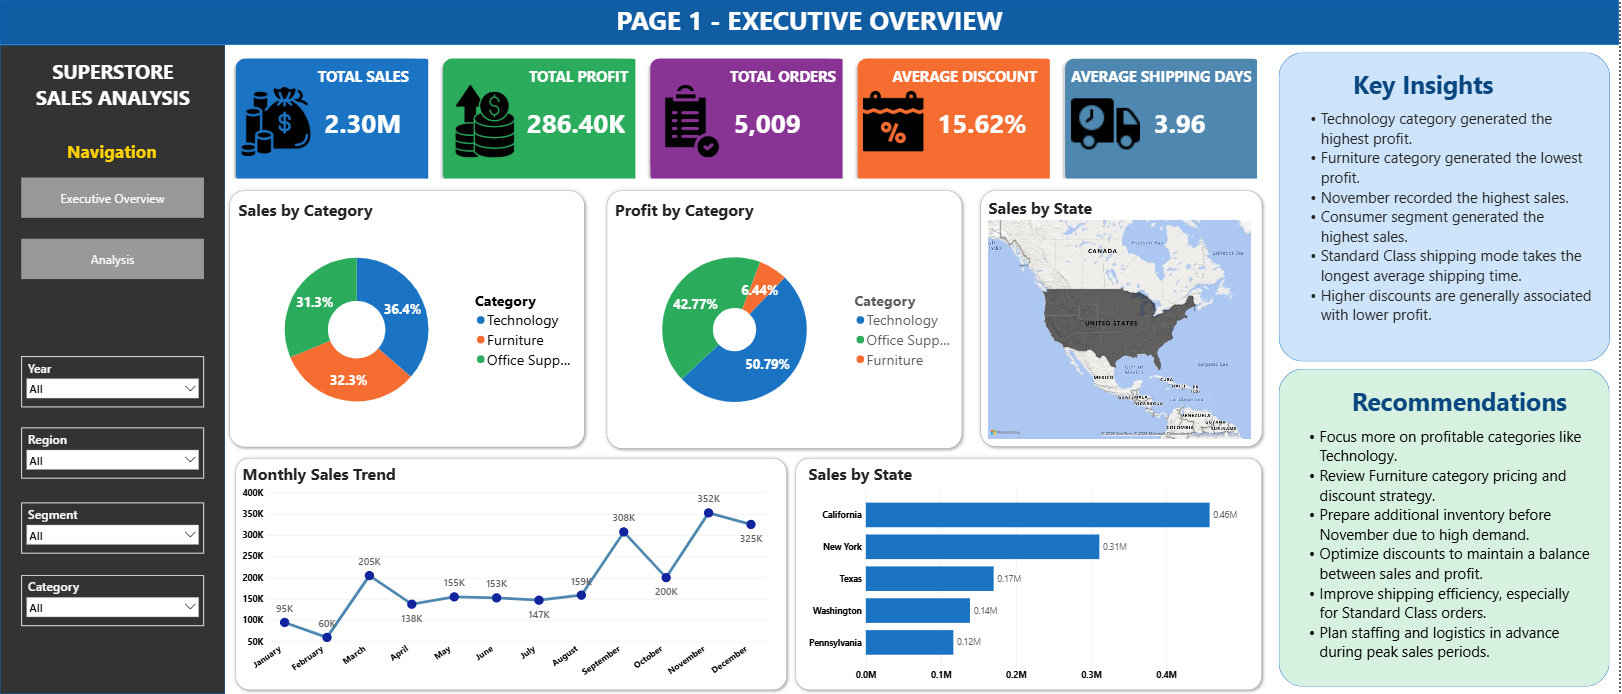

What the dashboard file says about the page in this screenshot:
{"tool":"powerbi","page":{"name":"EXECUTIVE OVERVIEW","canvas":[3500,1500],"ordinal":0},"visuals":[{"type":"shape","box":[0,96.7,486.7,1403.3],"z":0},{"type":"cardVisual","fields":{"Data":["SUPERSTORE.Total Sales","SUPERSTORE.Total Profit","SUPERSTORE.Total Orders","SUPERSTORE.Avg Discount","SUPERSTORE.Avg Shipping Days"]},"box":[480,96.7,2256.7,306.7],"z":1000},{"type":"textbox","box":[615,138.3,338.3,223.3],"z":2000},{"type":"textbox","box":[1136.7,138.3,226.7,61.7],"z":3000},{"type":"textbox","box":[1571.7,138.3,250,66.7],"z":4000},{"type":"textbox","box":[1913.3,138.3,353.3,63.3],"z":5000},{"type":"textbox","box":[2310,138.3,400,60],"z":6000},{"type":"shape","box":[1303.3,403.3,786.7,576.7],"z":7000},{"type":"shape","box":[486.7,403.3,786.7,573.3],"z":8000},{"type":"donutChart","title":"Sales by Category","fields":{"Y":["Sum(SUPERSTORE.Sales)"],"Category":["SUPERSTORE.Category"]},"box":[510,430,740,520],"z":9000},{"type":"shape","box":[2110,402.5,627.5,572.5],"z":10000},{"type":"filledMap","title":"Sales by State","fields":{"Category":["SUPERSTORE.State"]},"box":[2133.3,423.3,576.7,530],"z":11000},{"type":"donutChart","title":"Profit by Category","fields":{"Y":["Sum(SUPERSTORE.Profit)"],"Category":["SUPERSTORE.Category"]},"box":[1323.3,430,750,520],"z":12000},{"type":"shape","box":[500,980,1210,520],"z":13000},{"type":"lineChart","title":"Monthly Sales Trend","fields":{"Category":["SUPERSTORE.Order_Date.Variation.Date Hierarchy.Month"],"Y":["Sum(SUPERSTORE.Sales)"]},"box":[520,1000,1146.7,483.3],"z":14000},{"type":"shape","box":[1710,980,1026.7,520],"z":15000},{"type":"barChart","title":"Sales by State","fields":{"Y":["Sum(SUPERSTORE.Sales)"],"Category":["SUPERSTORE.State"]},"box":[1743.3,1000,960,483.3],"z":16000},{"type":"shape","box":[2764,114,716,668],"z":17000},{"type":"shape","box":[2765,797.5,715,687.5],"z":18000},{"type":"shape","box":[0,0,3500,96.7],"z":19000},{"type":"textbox","box":[1256.7,0,986.7,96.7],"z":20000},{"type":"textbox","box":[2802,140,646,658],"z":21000},{"type":"textbox","box":[2800,826,646,632],"z":22000},{"type":"textbox","box":[61.7,118.3,363.3,131.7],"z":23000},{"type":"slicer","fields":{"Values":["SUPERSTORE.Region"]},"box":[45,925,395,110],"z":24000},{"type":"slicer","fields":{"Values":["SUPERSTORE.Segment"]},"box":[45,1087.5,395,110],"z":25000},{"type":"slicer","fields":{"Values":["SUPERSTORE.Category"]},"box":[45,1242.5,395,110],"z":26000},{"type":"textbox","box":[92.5,297.5,300,62.5],"z":27000},{"type":"slicer","fields":{"Values":["SUPERSTORE.Order_Date.Variation.Date Hierarchy.Year"]},"box":[45,770,395,110],"z":28000},{"type":"actionButton","box":[45,382.5,395,87.5],"z":29000},{"type":"actionButton","box":[45,517.5,395,87.5],"z":30000}]}

Visuals, with their boxes in screenshot pixels (x1, y1, x2, y2), scaled from the page's 3500x1500 canvas onto the 1622x694 screenshot:
shape: [x1=0, y1=45, x2=226, y2=693]
cardVisual - SUPERSTORE.Total Sales x SUPERSTORE.Total Profit: [x1=222, y1=45, x2=1268, y2=187]
textbox: [x1=285, y1=64, x2=442, y2=167]
textbox: [x1=527, y1=64, x2=632, y2=93]
textbox: [x1=728, y1=64, x2=844, y2=95]
textbox: [x1=887, y1=64, x2=1050, y2=93]
textbox: [x1=1071, y1=64, x2=1256, y2=92]
shape: [x1=604, y1=187, x2=969, y2=453]
shape: [x1=226, y1=187, x2=590, y2=452]
"Sales by Category" donutChart: [x1=236, y1=199, x2=579, y2=440]
shape: [x1=978, y1=186, x2=1269, y2=451]
"Sales by State" filledMap: [x1=989, y1=196, x2=1256, y2=441]
"Profit by Category" donutChart: [x1=613, y1=199, x2=961, y2=440]
shape: [x1=232, y1=453, x2=792, y2=693]
"Monthly Sales Trend" lineChart: [x1=241, y1=463, x2=772, y2=686]
shape: [x1=792, y1=453, x2=1268, y2=693]
"Sales by State" barChart: [x1=808, y1=463, x2=1253, y2=686]
shape: [x1=1281, y1=53, x2=1613, y2=362]
shape: [x1=1281, y1=369, x2=1613, y2=687]
shape: [x1=0, y1=0, x2=1621, y2=45]
textbox: [x1=582, y1=0, x2=1040, y2=45]
textbox: [x1=1299, y1=65, x2=1598, y2=369]
textbox: [x1=1298, y1=382, x2=1597, y2=675]
textbox: [x1=29, y1=55, x2=197, y2=116]
slicer - SUPERSTORE.Region: [x1=21, y1=428, x2=204, y2=479]
slicer - SUPERSTORE.Segment: [x1=21, y1=503, x2=204, y2=554]
slicer - SUPERSTORE.Category: [x1=21, y1=575, x2=204, y2=626]
textbox: [x1=43, y1=138, x2=182, y2=167]
slicer - SUPERSTORE.Order_Date.Variation.Date Hierarchy.Year: [x1=21, y1=356, x2=204, y2=407]
actionButton: [x1=21, y1=177, x2=204, y2=217]
actionButton: [x1=21, y1=239, x2=204, y2=280]
